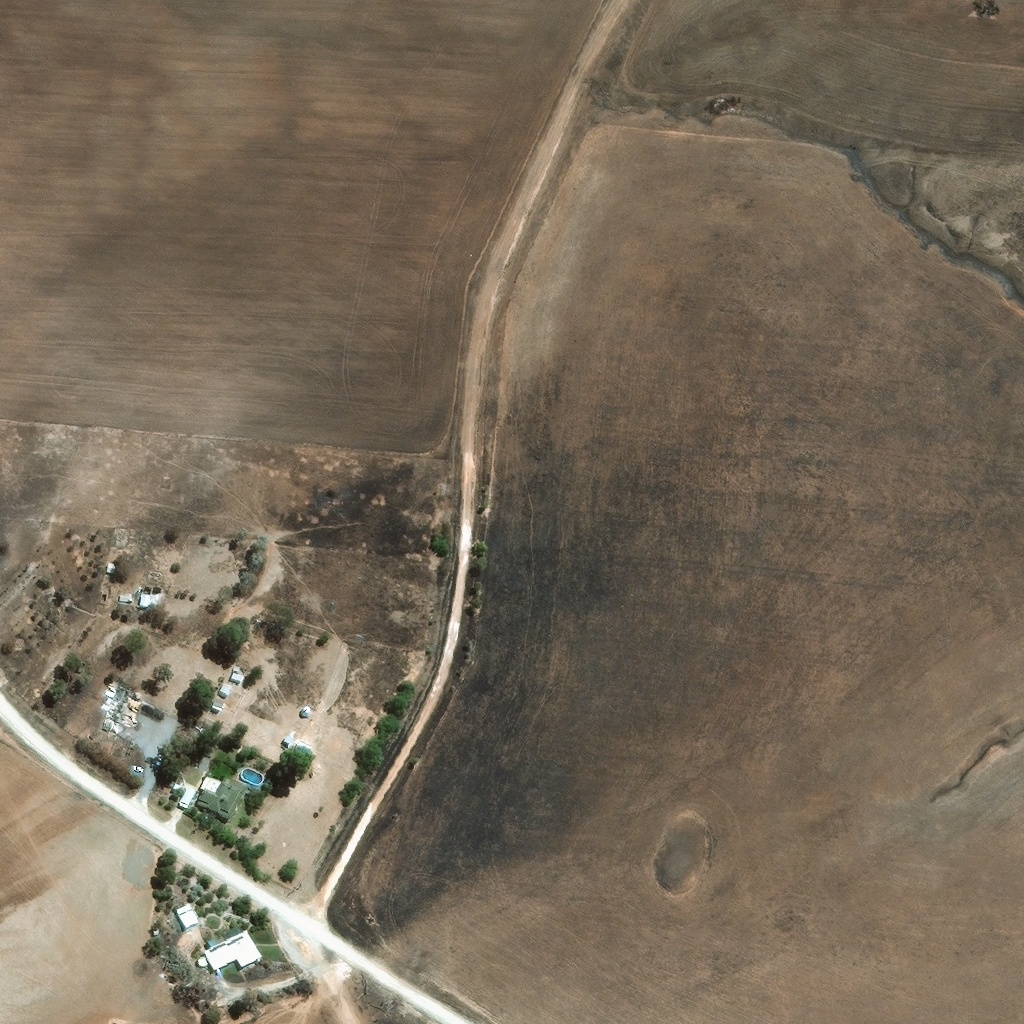0 no-damage: (202, 929, 261, 971), (195, 775, 241, 821), (176, 903, 199, 930), (177, 786, 196, 808), (294, 738, 311, 754), (196, 954, 207, 968), (211, 698, 223, 710), (219, 683, 231, 695), (172, 781, 184, 793), (230, 671, 242, 682), (283, 734, 293, 744), (301, 705, 310, 714)
1 minor-damage: (139, 591, 162, 606), (107, 559, 120, 573), (118, 591, 132, 601)
2 major-damage: (101, 679, 144, 729)
